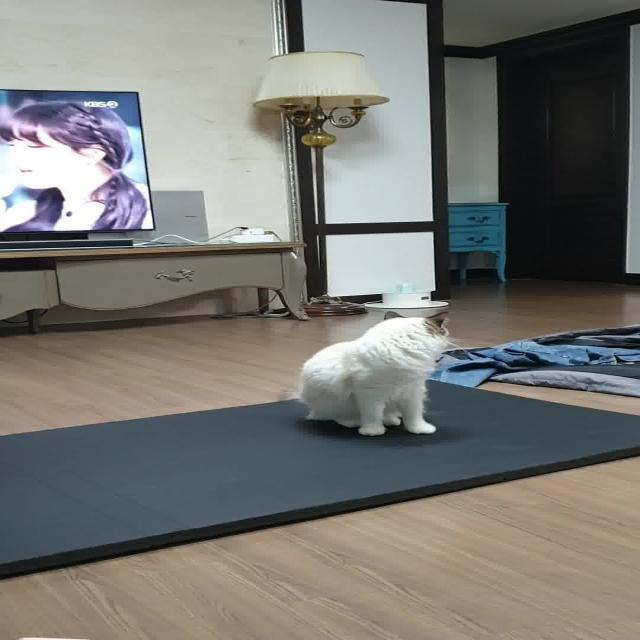cat: (283, 299, 458, 442)
